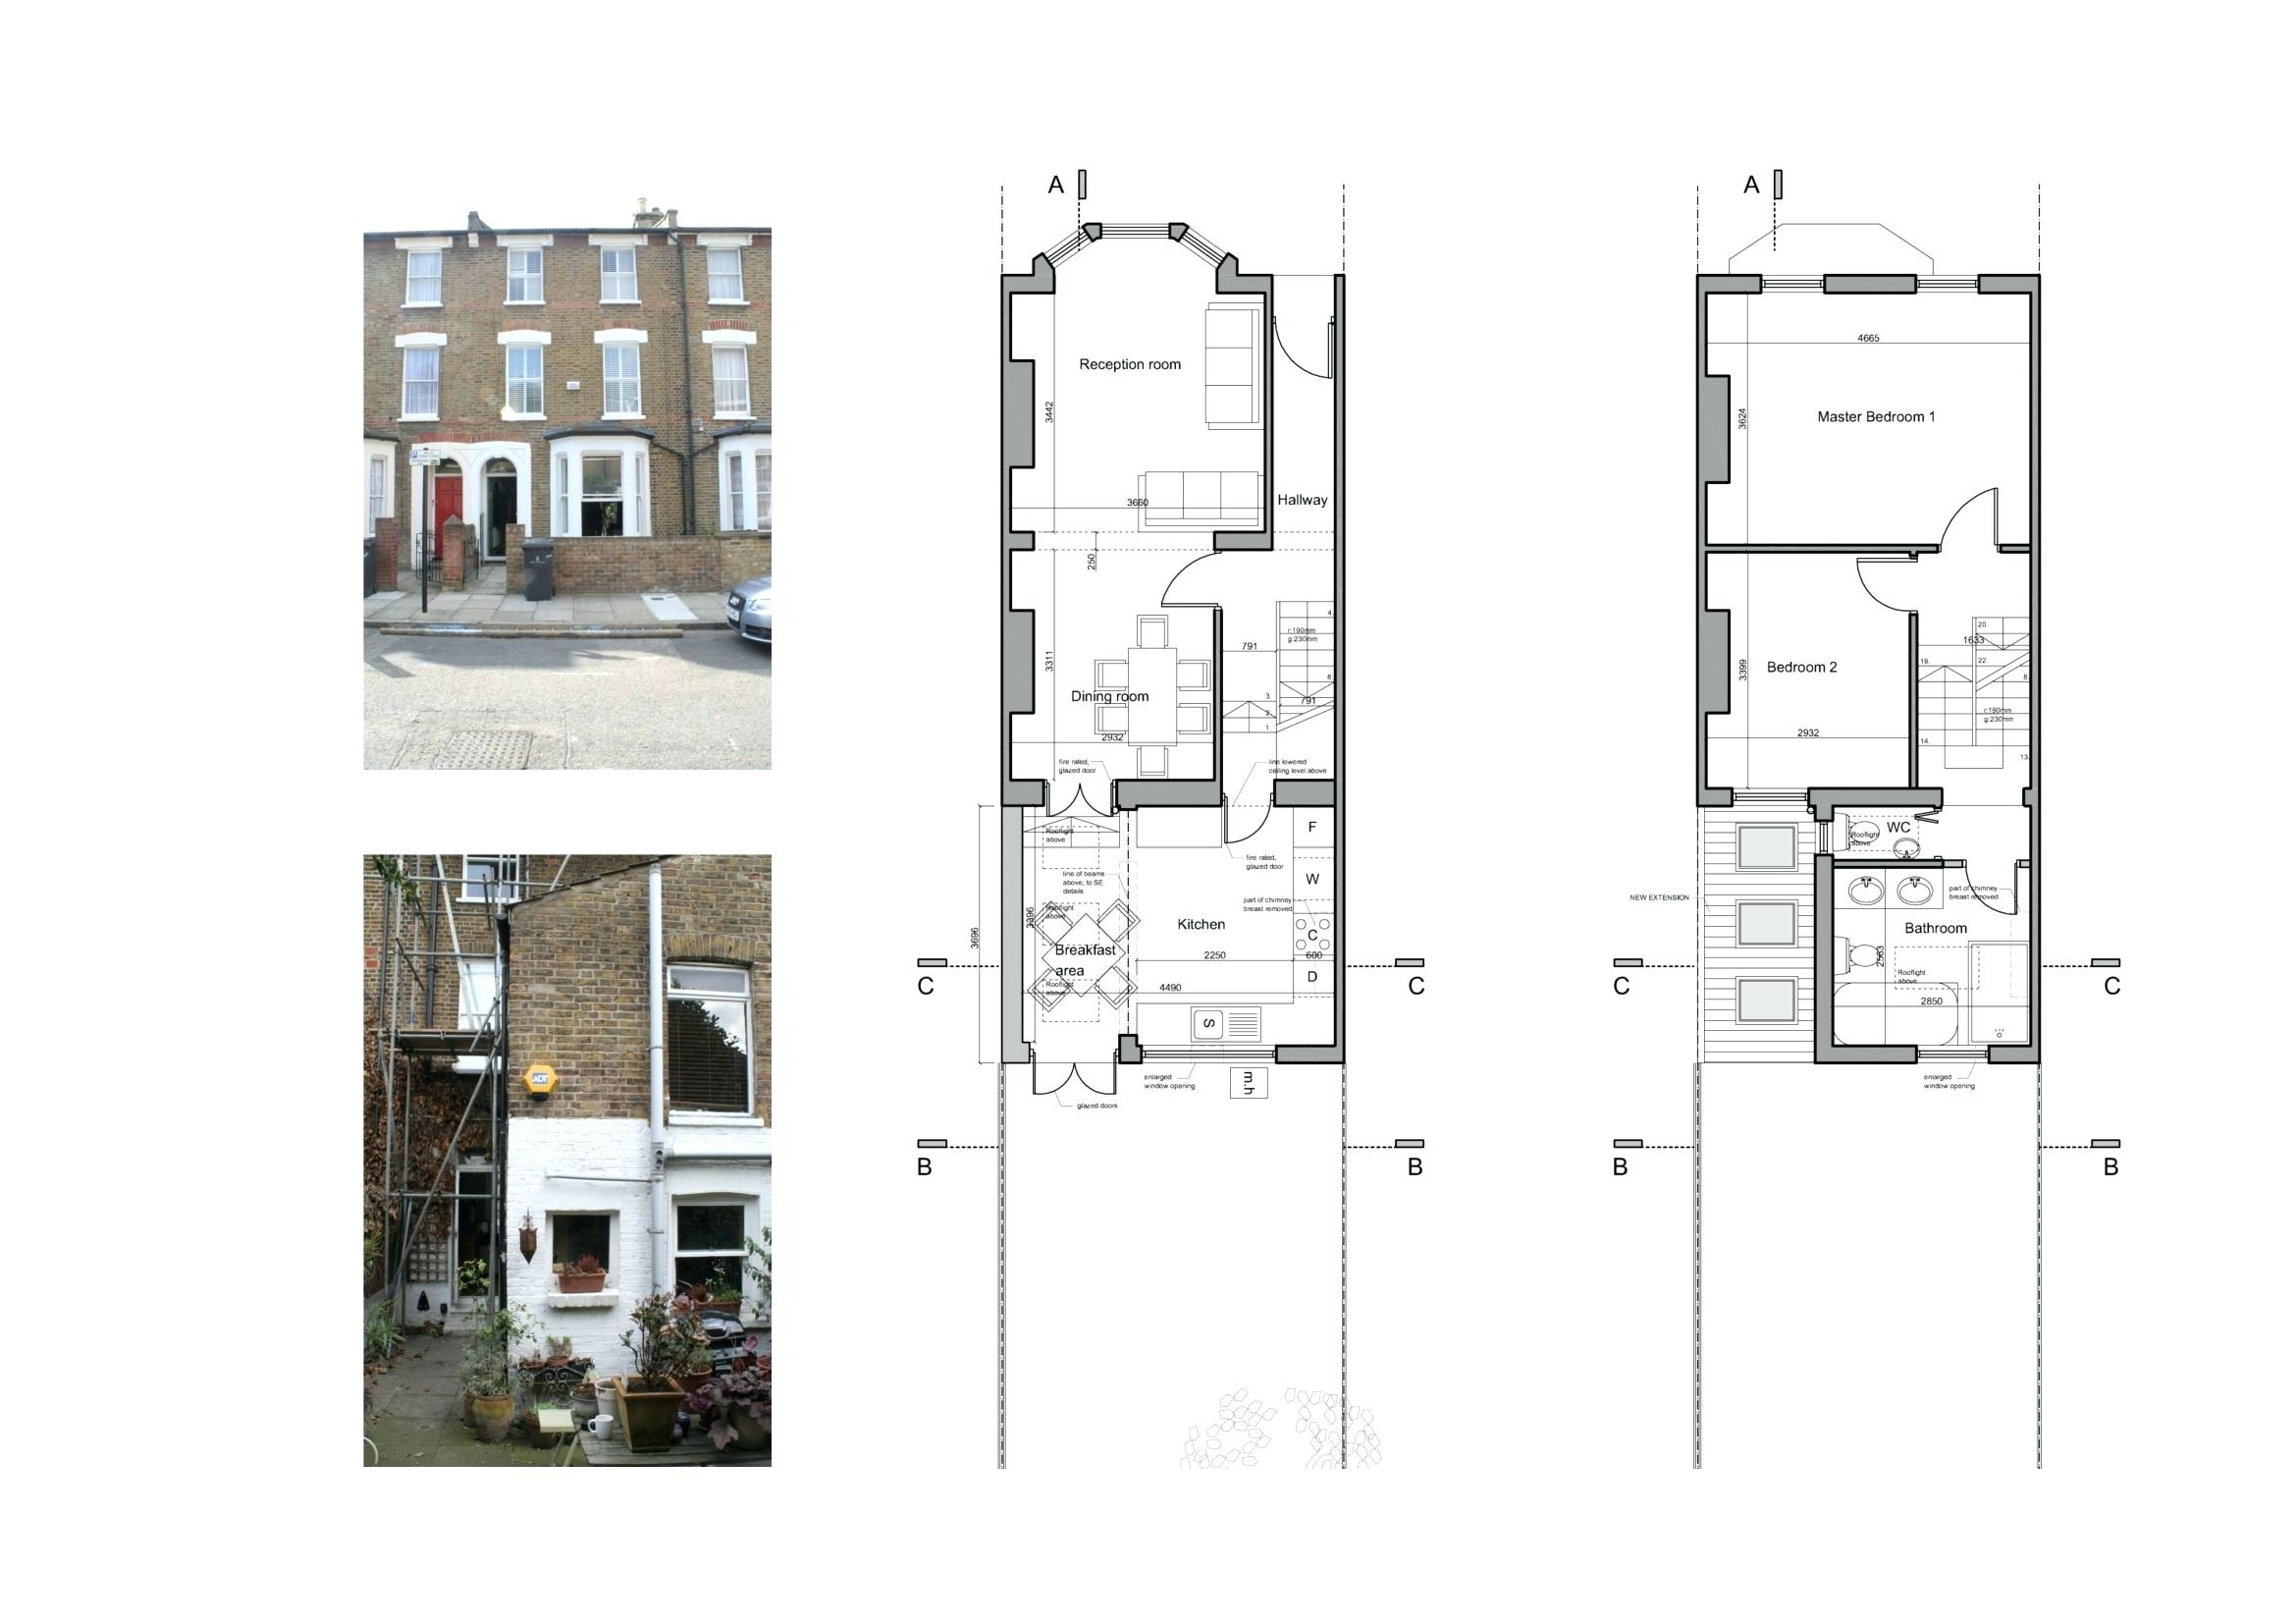door: (1848, 553, 1908, 615), (1153, 555, 1213, 617), (1947, 480, 2005, 543), (1032, 1054, 1118, 1096), (1278, 321, 1336, 383), (1962, 869, 2020, 931), (1223, 804, 1271, 852)
